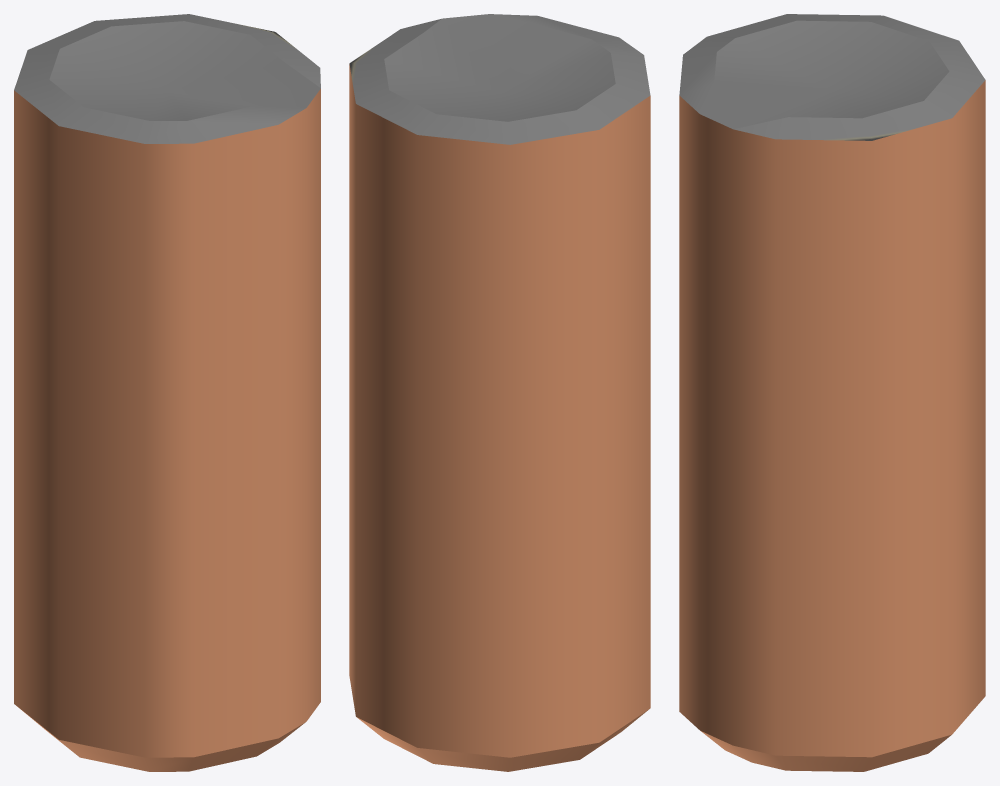
The model's file is can.fbx.
3 renders of one model, left to right at view 1: azimuth 30°, elevation 25°; view 2: azimuth 150°, elevation 25°; view 3: azimuth 270°, elevation 25°, orthographic.
Visible parts, largest first — view 1: can; view 2: can; view 3: can.
Part boxes in pixels (x1=…): can: x1=14, y1=14, x2=320, y2=771; can: x1=349, y1=14, x2=650, y2=771; can: x1=679, y1=14, x2=985, y2=771.
Size of the model in its own units: 6.73 by 16.1 by 6.86.
